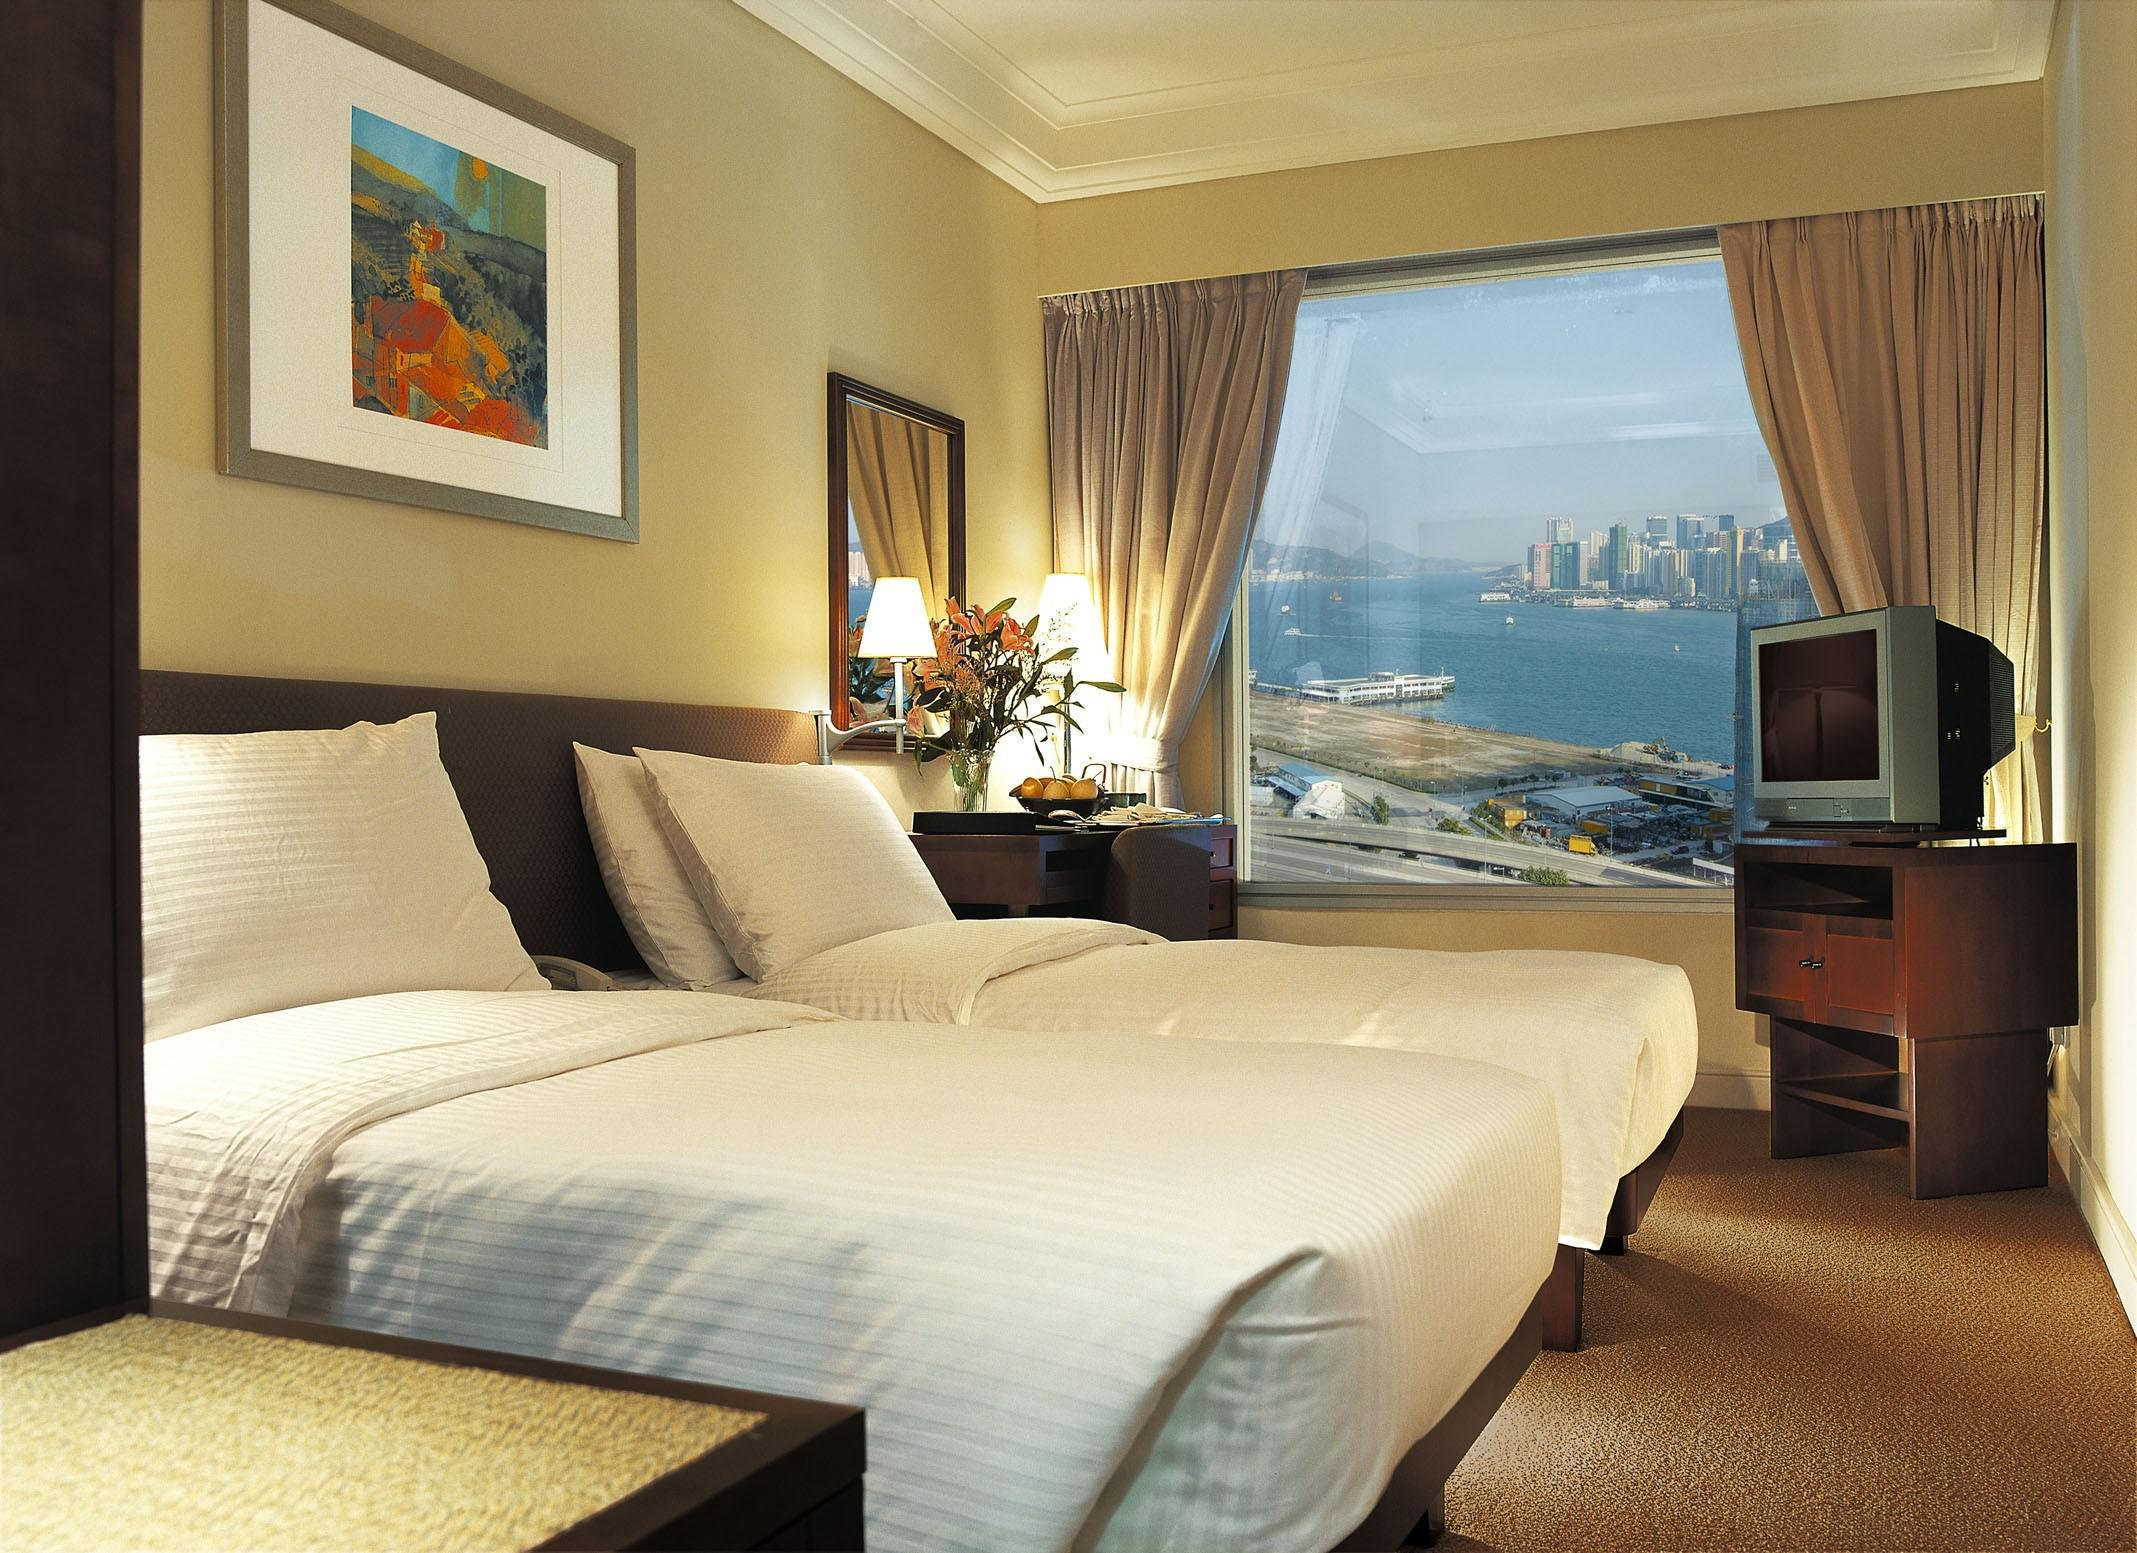Cama: (159, 664, 1576, 1507), (524, 699, 1689, 1331)
Ventana: (1092, 292, 2027, 873)
